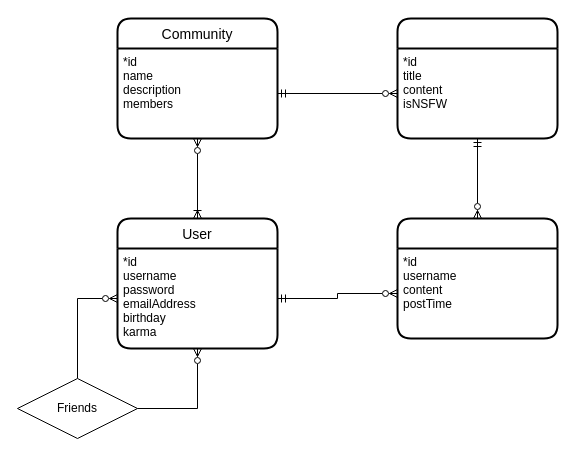
This 576x456 diagram has some shape labels left out. Here are the shapes that lost their labels. From the top down, the box of each, then its label:
(396, 17, 558, 139): Post
(396, 217, 558, 339): Message
